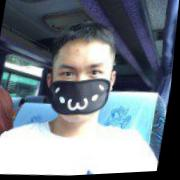WRONG: (47, 51, 117, 129)
